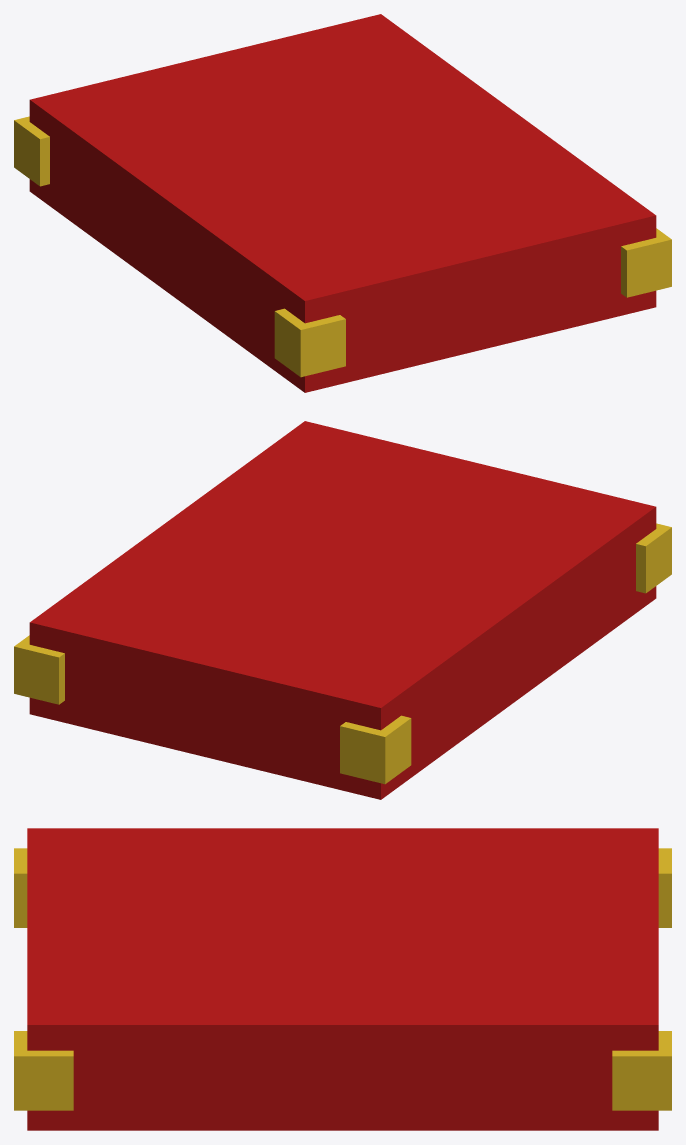
File: szkolny_dziennik.obj
The picture shows the model from 3 angles, top to bottom: view 1: azimuth 30°, elevation 25°; view 2: azimuth 150°, elevation 25°; view 3: azimuth 270°, elevation 25°; orthographic projection. The views are drawn at different scales.
Visible parts, largest first — view 1: DziennikOcen; view 2: DziennikOcen; view 3: DziennikOcen.
Boxes of the visible parts, box(x1,y1,x2,y2) form: DziennikOcen: box(14, 14, 671, 392); DziennikOcen: box(14, 421, 671, 799); DziennikOcen: box(14, 828, 671, 1130).
Size of the model in its own units: 1.48 by 0.35 by 1.98.
